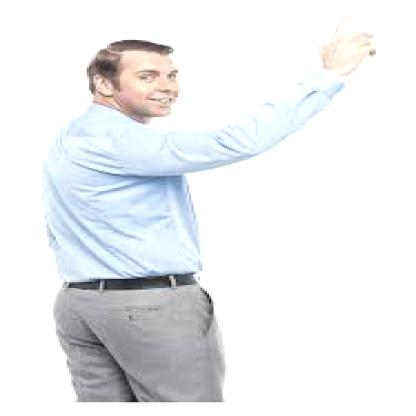Up: (297, 10, 386, 77)
